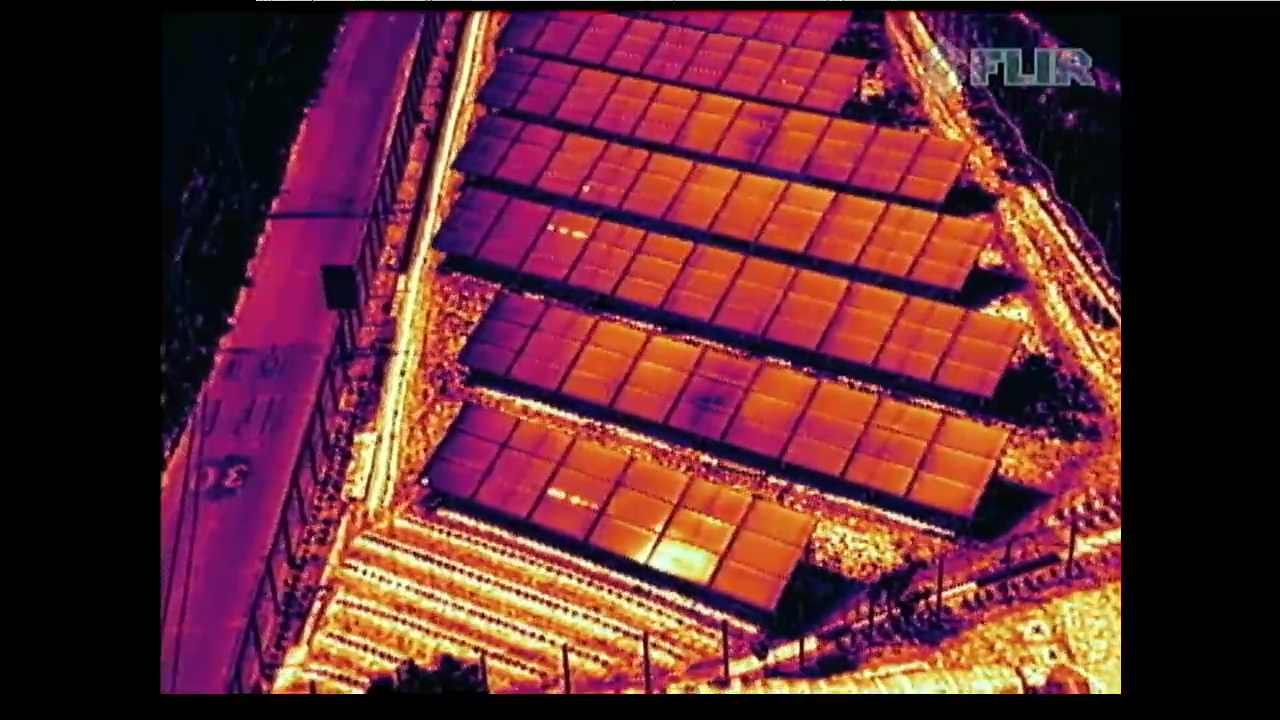hotspot: (519, 437, 629, 549), (511, 195, 599, 287), (572, 136, 653, 209)
